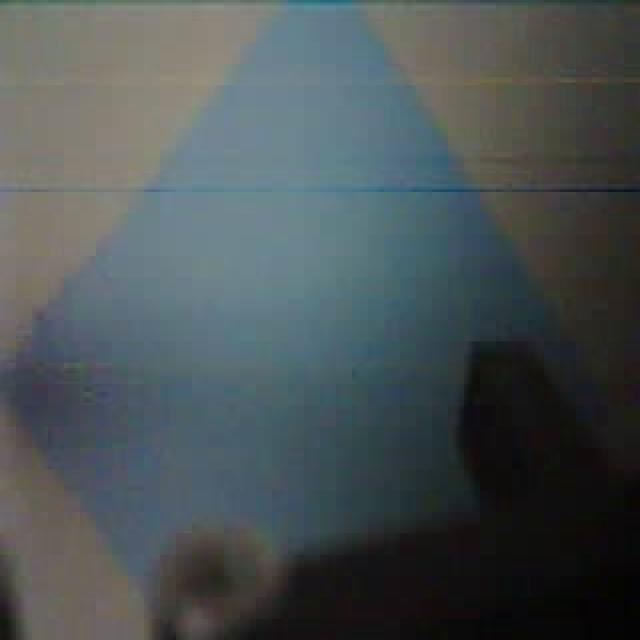blue_box: (2, 0, 608, 624)
